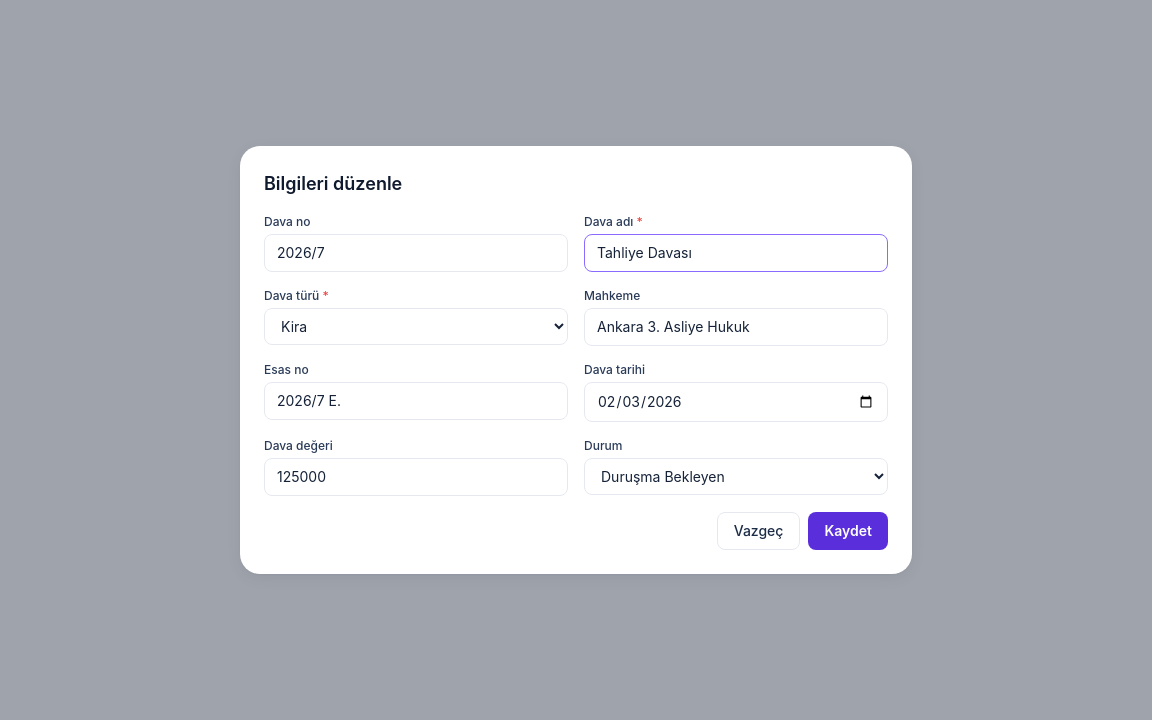
Test case: CaseEditModal › validates before sending
The width and height of the screenshot is (1152, 720).
Clear the field labelled "Dava adı *" at (736, 253), box [584,234,888,272]
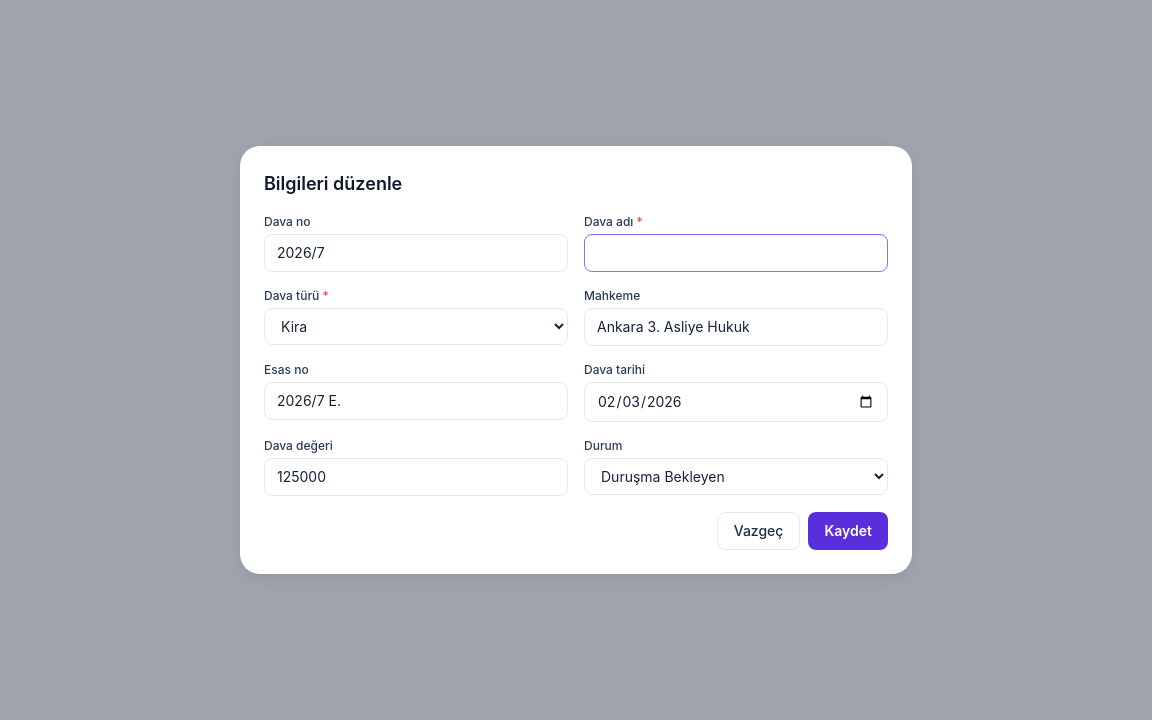
Clear the date field labelled "Dava tarihi" at (736, 402), box [584,382,888,422]
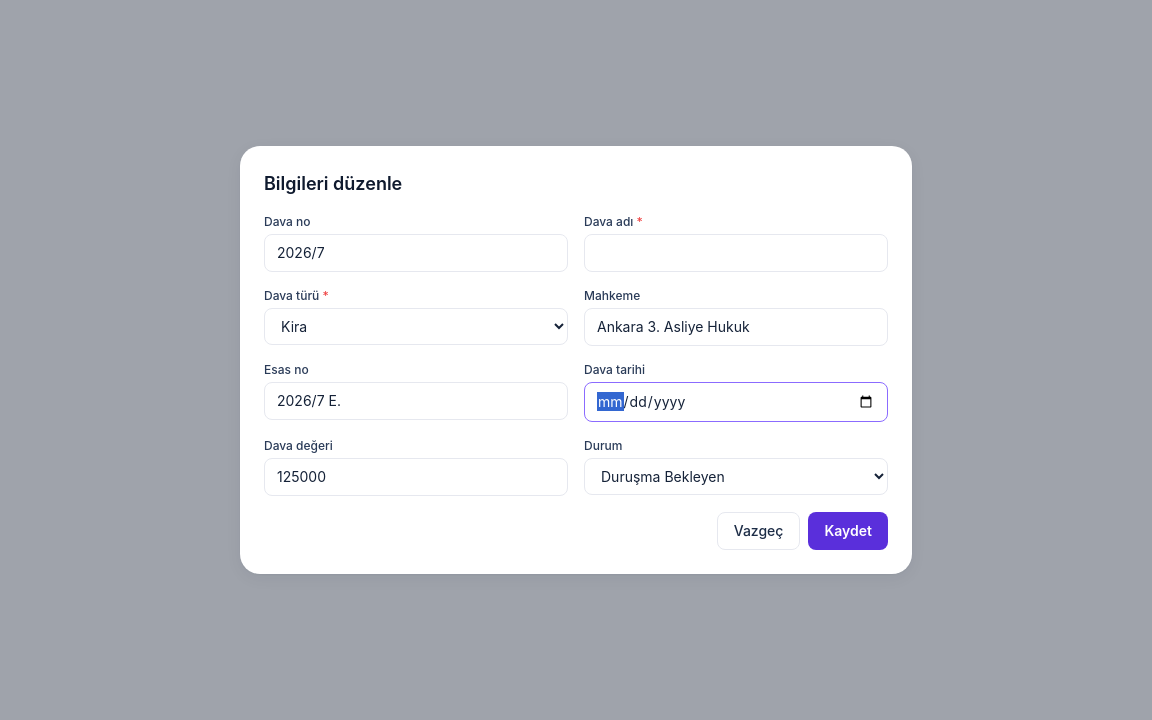
Replace the text in the number field labelled "Dava değeri" with "-5" at (416, 477), box [264,458,568,496]
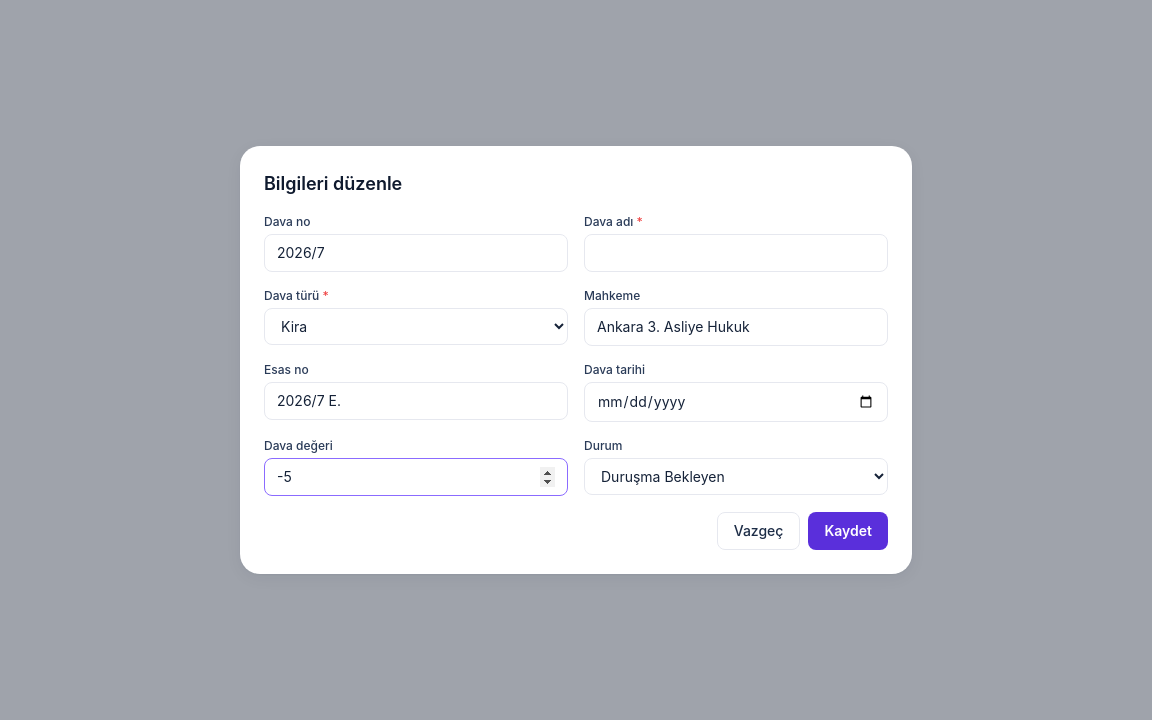
Click the button "Kaydet" at (848, 531), box [808,512,888,550]
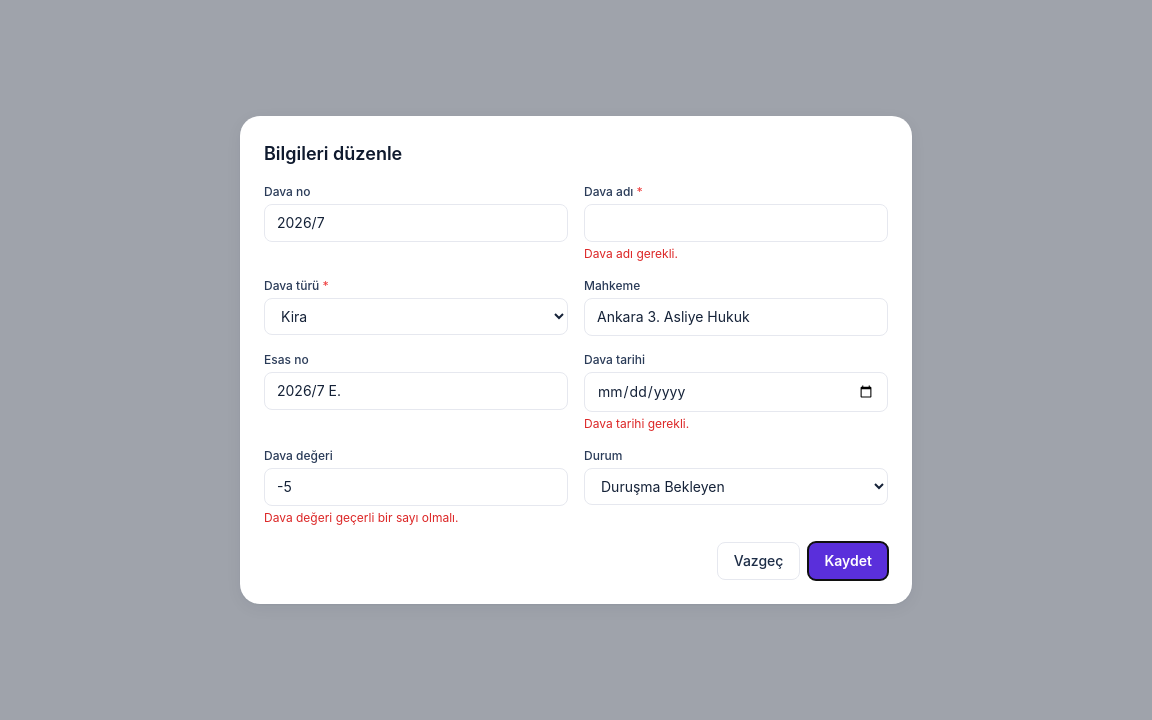
Result: the text "Dava adı gerekli." is shown at [584,246,678,261]
Result: the text "Dava tarihi gerekli." is shown at [584,416,689,431]
Result: the text "Dava değeri geçerli bir sayı olmalı." is shown at [264,510,458,525]
